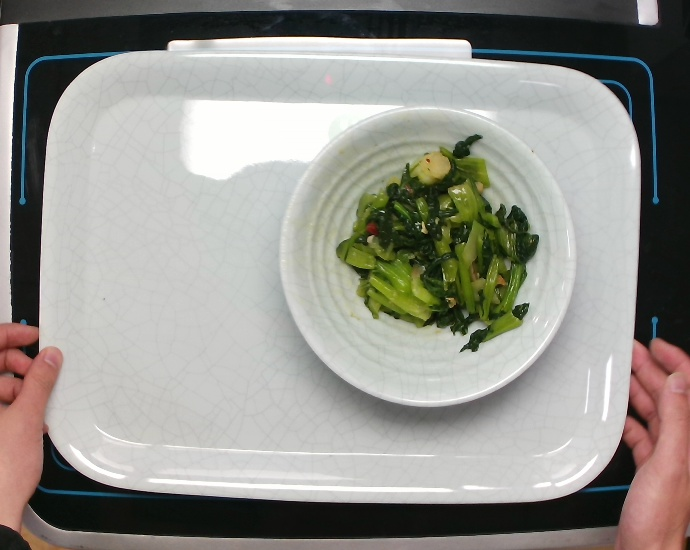JYsf-Xiao_Tang_Wan: (271, 100, 578, 410)
